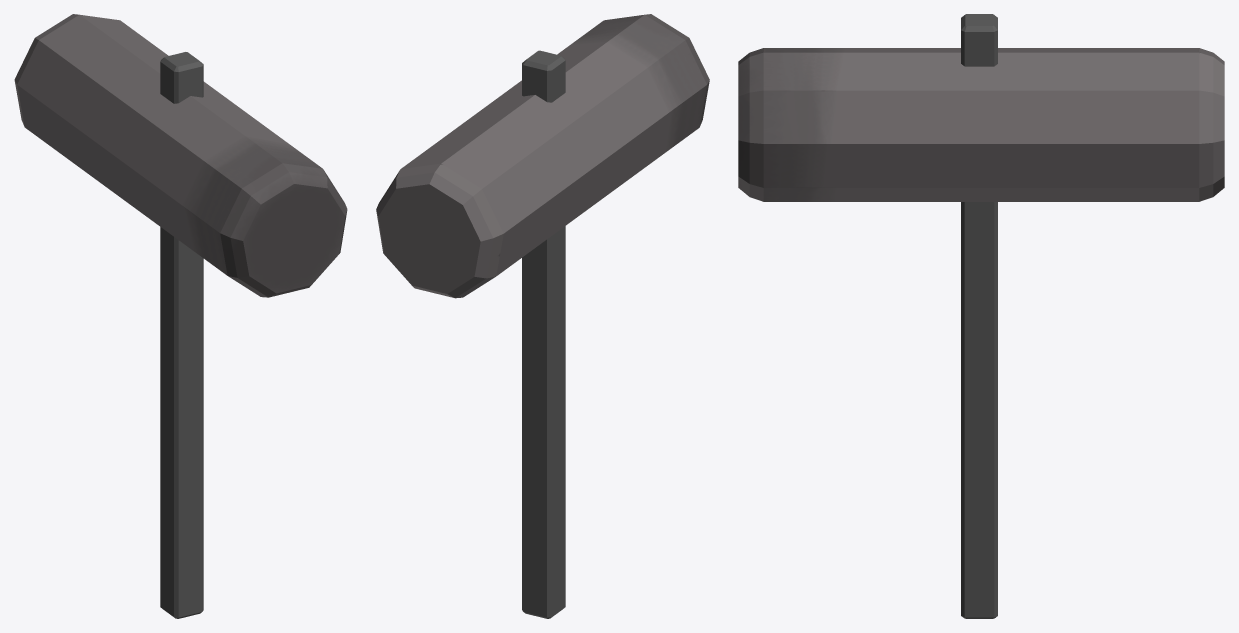
Rendered from Hammer 3.fbx.
3 renders of one model, left to right at view 1: azimuth 30°, elevation 25°; view 2: azimuth 150°, elevation 25°; view 3: azimuth 270°, elevation 25°, orthographic. The views are drawn at different scales.
Visible parts, largest first — view 1: Cylinder.003; view 2: Cylinder.003; view 3: Cylinder.003.
Boxes of the visible parts, x1,y1,x2,y2 form: Cylinder.003: [14, 14, 347, 618]; Cylinder.003: [376, 14, 709, 618]; Cylinder.003: [738, 14, 1224, 618].
Size of the model in its own units: 79.21 by 335 by 249.
2 materials, 1 textured.
